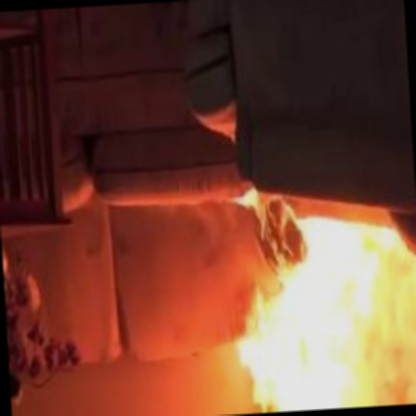fire: (221, 168, 416, 413)
